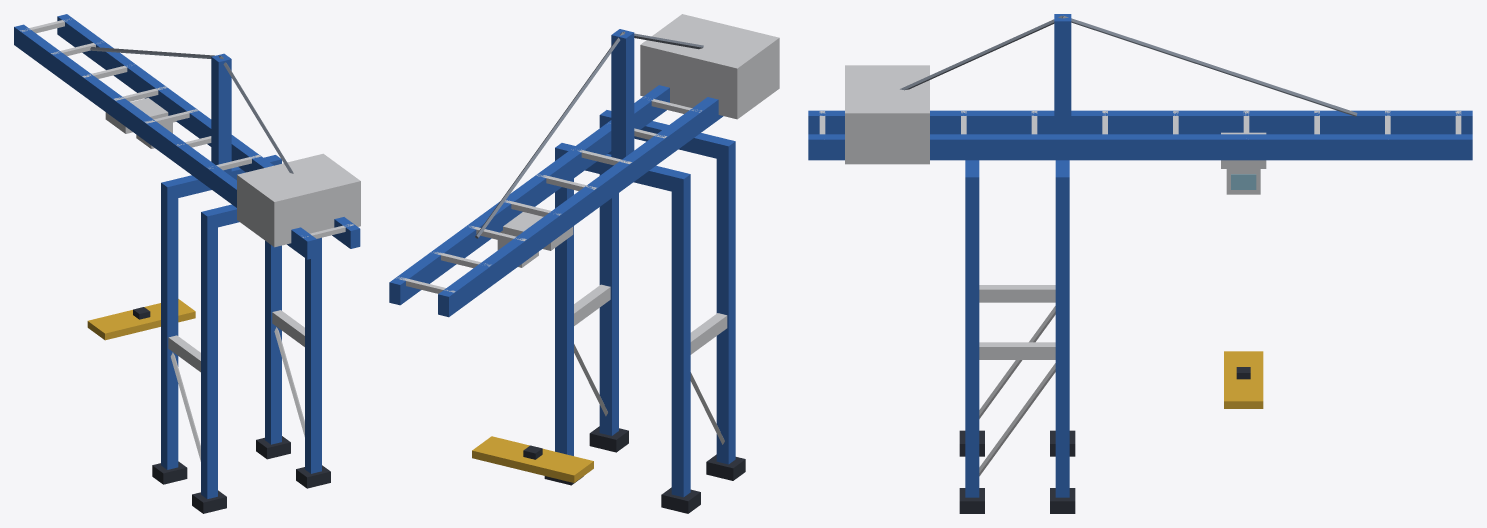
The model's file is crane_sts.glb.
3 views of the same model, side by side, from view 1: azimuth 30°, elevation 25°; view 2: azimuth 150°, elevation 25°; view 3: azimuth 270°, elevation 25° (orthographic). The views are drawn at different scales.
Visible parts, largest first — view 1: base, boom, spreader, trolley; view 2: base, boom, spreader, trolley; view 3: boom, base, spreader, trolley.
Boxes of the visible parts, x1=… form: base: x1=90, y1=47, x2=360, y2=513; boom: x1=14, y1=14, x2=360, y2=259; spreader: x1=87, y1=299, x2=195, y2=340; trolley: x1=105, y1=98, x2=175, y2=148; base: x1=475, y1=14, x2=779, y2=513; boom: x1=389, y1=85, x2=723, y2=317; spreader: x1=472, y1=436, x2=593, y2=482; trolley: x1=497, y1=212, x2=573, y2=267; boom: x1=808, y1=110, x2=1472, y2=160; base: x1=845, y1=14, x2=1357, y2=513; spreader: x1=1224, y1=351, x2=1263, y2=408; trolley: x1=1221, y1=132, x2=1266, y2=194.
Size of the model in its own units: 5.9 by 18.08 by 23.5.
